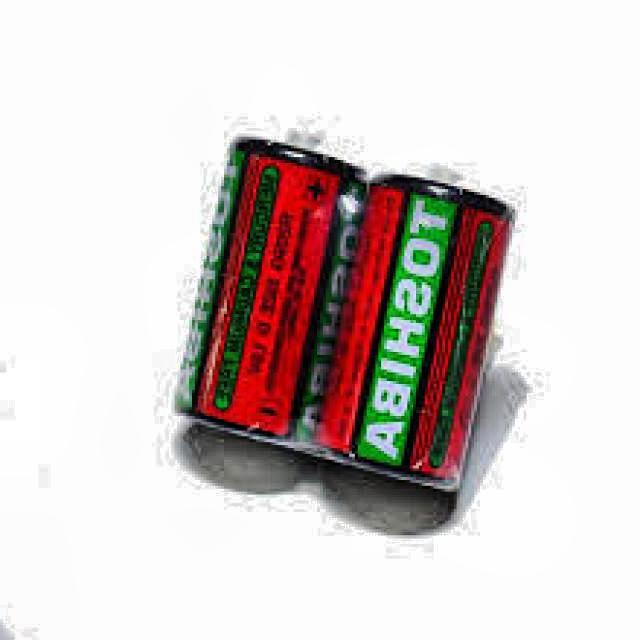battery: (180, 137, 515, 489)
